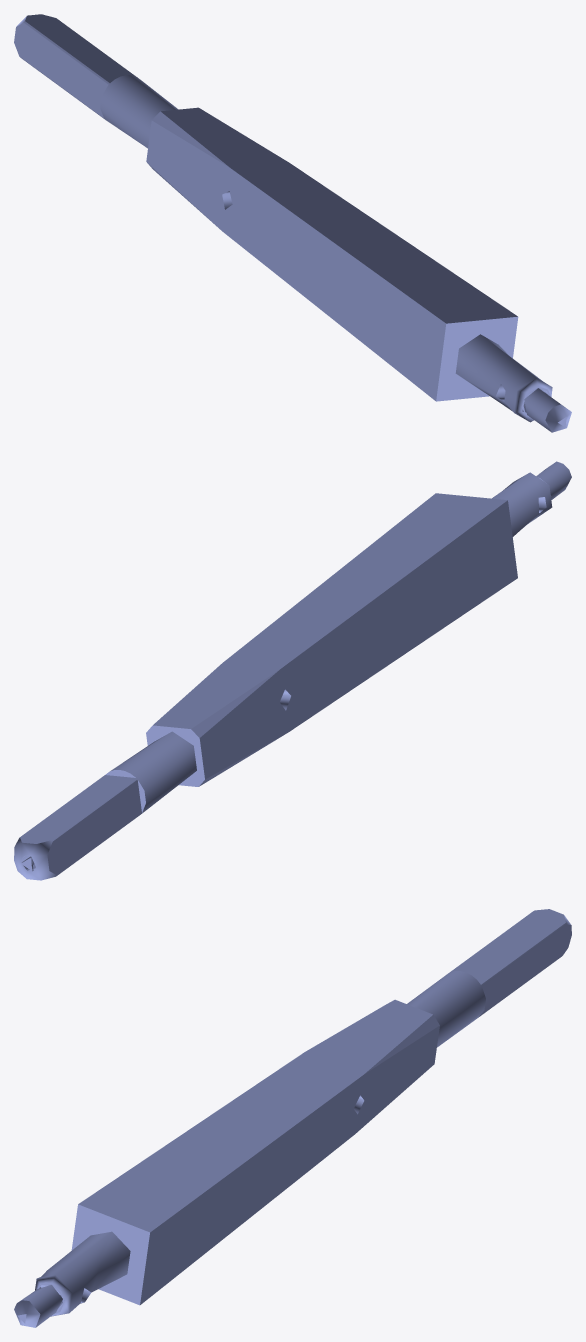
Rendered from Copie de Axe bari^Copie de ASS BARI_Horloge Comtoise Verge - Sonnerie.obj.
The picture shows the model from 3 angles, top to bottom: view 1: azimuth 30°, elevation 25°; view 2: azimuth 150°, elevation 25°; view 3: azimuth 330°, elevation 25°; orthographic projection.
Parts seen in each view (by area): view 1: Face_5, Face_1, Face_13, Face_20, Face_11, Face_4, Face_22, Face_26, Face_6, Face_14; view 2: Face_5, Face_1, Face_13, Face_20, Face_22, Face_11, Face_25, Face_7, Face_26, Face_6; view 3: Face_1, Face_3, Face_11, Face_13, Face_4, Face_22, Face_17, Face_26, Face_2, Face_14.
Boxes of the visible parts, x1,y1,x2,y2 form: Face_5: [146, 120, 445, 400]; Face_1: [161, 107, 517, 323]; Face_13: [20, 21, 178, 148]; Face_20: [14, 22, 108, 117]; Face_11: [455, 334, 547, 412]; Face_4: [436, 316, 518, 401]; Face_22: [25, 14, 135, 82]; Face_26: [524, 388, 565, 432]; Face_6: [152, 111, 229, 167]; Face_14: [514, 378, 552, 422]; Face_5: [199, 500, 517, 779]; Face_1: [153, 493, 507, 728]; Face_13: [27, 731, 196, 875]; Face_20: [47, 780, 141, 875]; Face_22: [20, 775, 135, 843]; Face_11: [492, 472, 552, 536]; Face_25: [14, 837, 56, 880]; Face_7: [146, 725, 204, 786]; Face_26: [536, 461, 571, 499]; Face_6: [191, 669, 279, 737]; Face_1: [78, 999, 432, 1232]; Face_3: [140, 1025, 439, 1304]; Face_11: [38, 1231, 130, 1312]; Face_13: [407, 911, 566, 1047]; Face_4: [71, 1204, 149, 1305]; Face_22: [450, 909, 565, 984]; Face_17: [478, 924, 571, 1017]; Face_26: [18, 1285, 62, 1327]; Face_2: [365, 1014, 439, 1073]; Face_14: [35, 1275, 72, 1316].
Size of the model in its own units: 0.0106 by 0.0106 by 0.1196.
